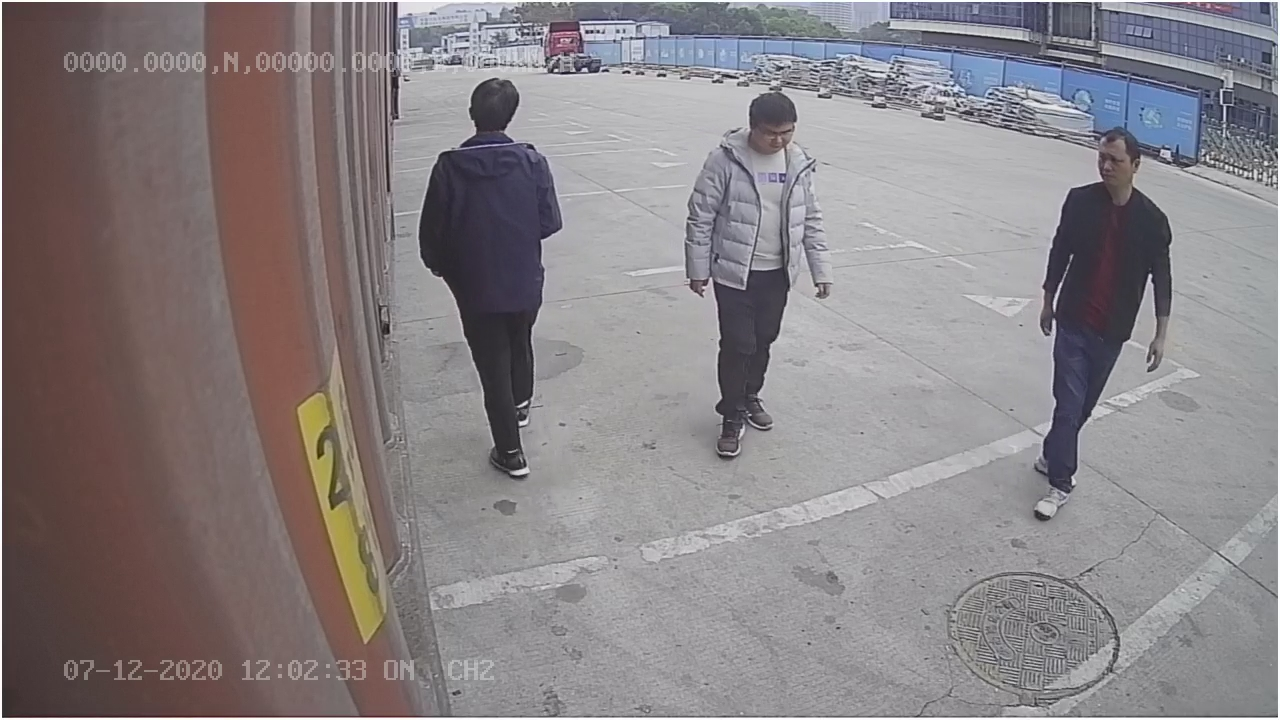person: (419, 80, 569, 476), (1029, 128, 1176, 522), (682, 85, 835, 459)
